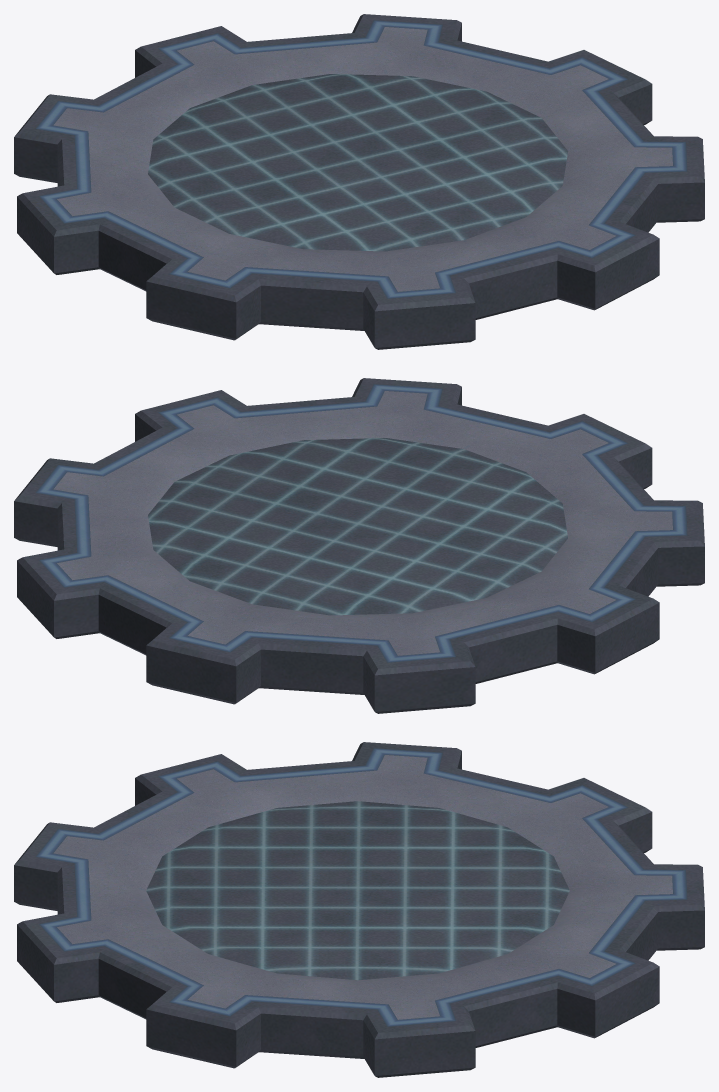
File: StarDustRedBlueExGearStepA.fbx
The picture shows the model from 3 angles, top to bottom: view 1: azimuth 30°, elevation 25°; view 2: azimuth 150°, elevation 25°; view 3: azimuth 270°, elevation 25°; orthographic projection.
Parts seen in each view (by area): view 1: Visual; view 2: Visual; view 3: Visual.
Part boxes in pixels (x1,y1,x2,y2): Visual: [14, 14, 704, 349]; Visual: [14, 378, 704, 713]; Visual: [14, 742, 704, 1077].
Size of the model in its own units: 91332 by 6463 by 90272.
Materials: 4 (4 with a texture image).
